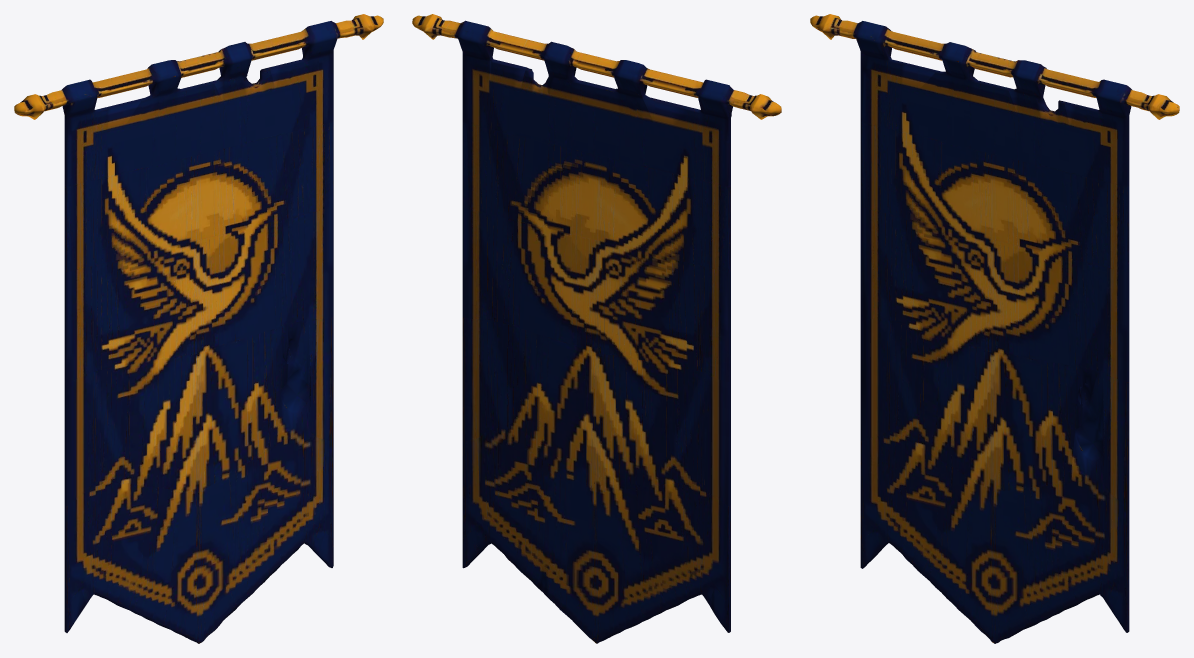
File: Flag_Golden_Phoenix_Over.glb
3 views of the same model, side by side, from view 1: azimuth 30°, elevation 25°; view 2: azimuth 150°, elevation 25°; view 3: azimuth 330°, elevation 25° (orthographic).
Size of the model in its own units: 1.24 by 1.9 by 0.0978.
Materials: 1 (1 with a texture image).
